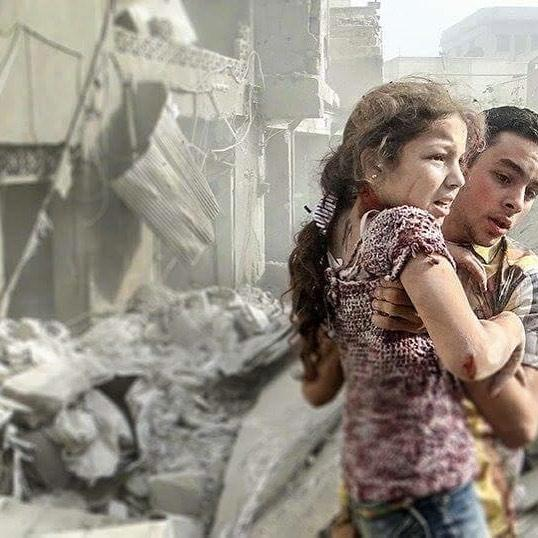victim: (291, 77, 538, 535)
